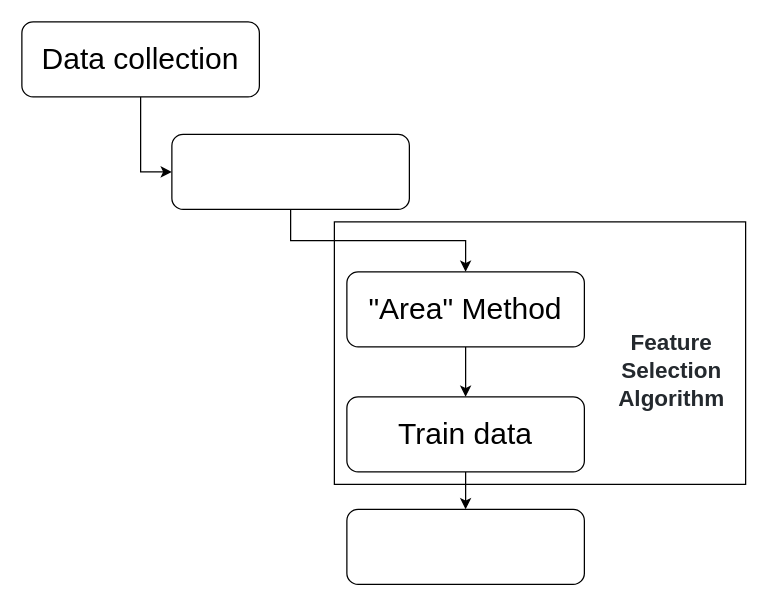
Image size: 768x606. Some labels were removed from this diagram. Each missing label, with the box of its shape:
Optimization and Comparsion: (346, 508, 584, 584)
Prepocessing: (171, 133, 409, 209)
